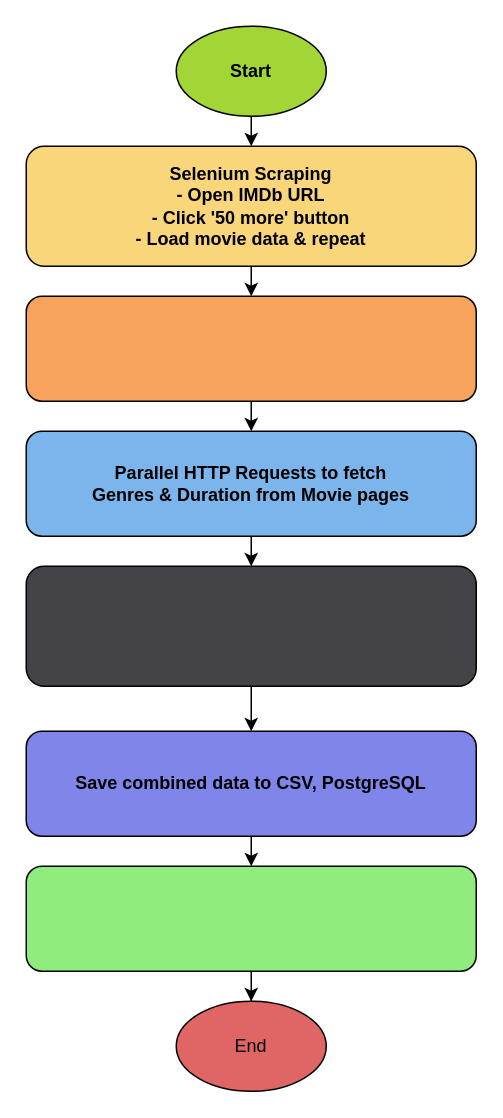
The diagram is 503 pixels wide and 1118 high, and some of its shapes have lost their labels. The shapes that lost their labels are listed below. From the top down, each one's centre as x and y in pixels, then its label:
At (x=250, y=348): "Parse movie info from search page - Title, Rating, Votes - Movie detail URL".
At (x=250, y=625): "Data Cleaning - Clean Titles - Convert Duration to minutes - Fill missing values".
At (x=250, y=918): "Filtering & Interactive Visualization using Streamlit".
